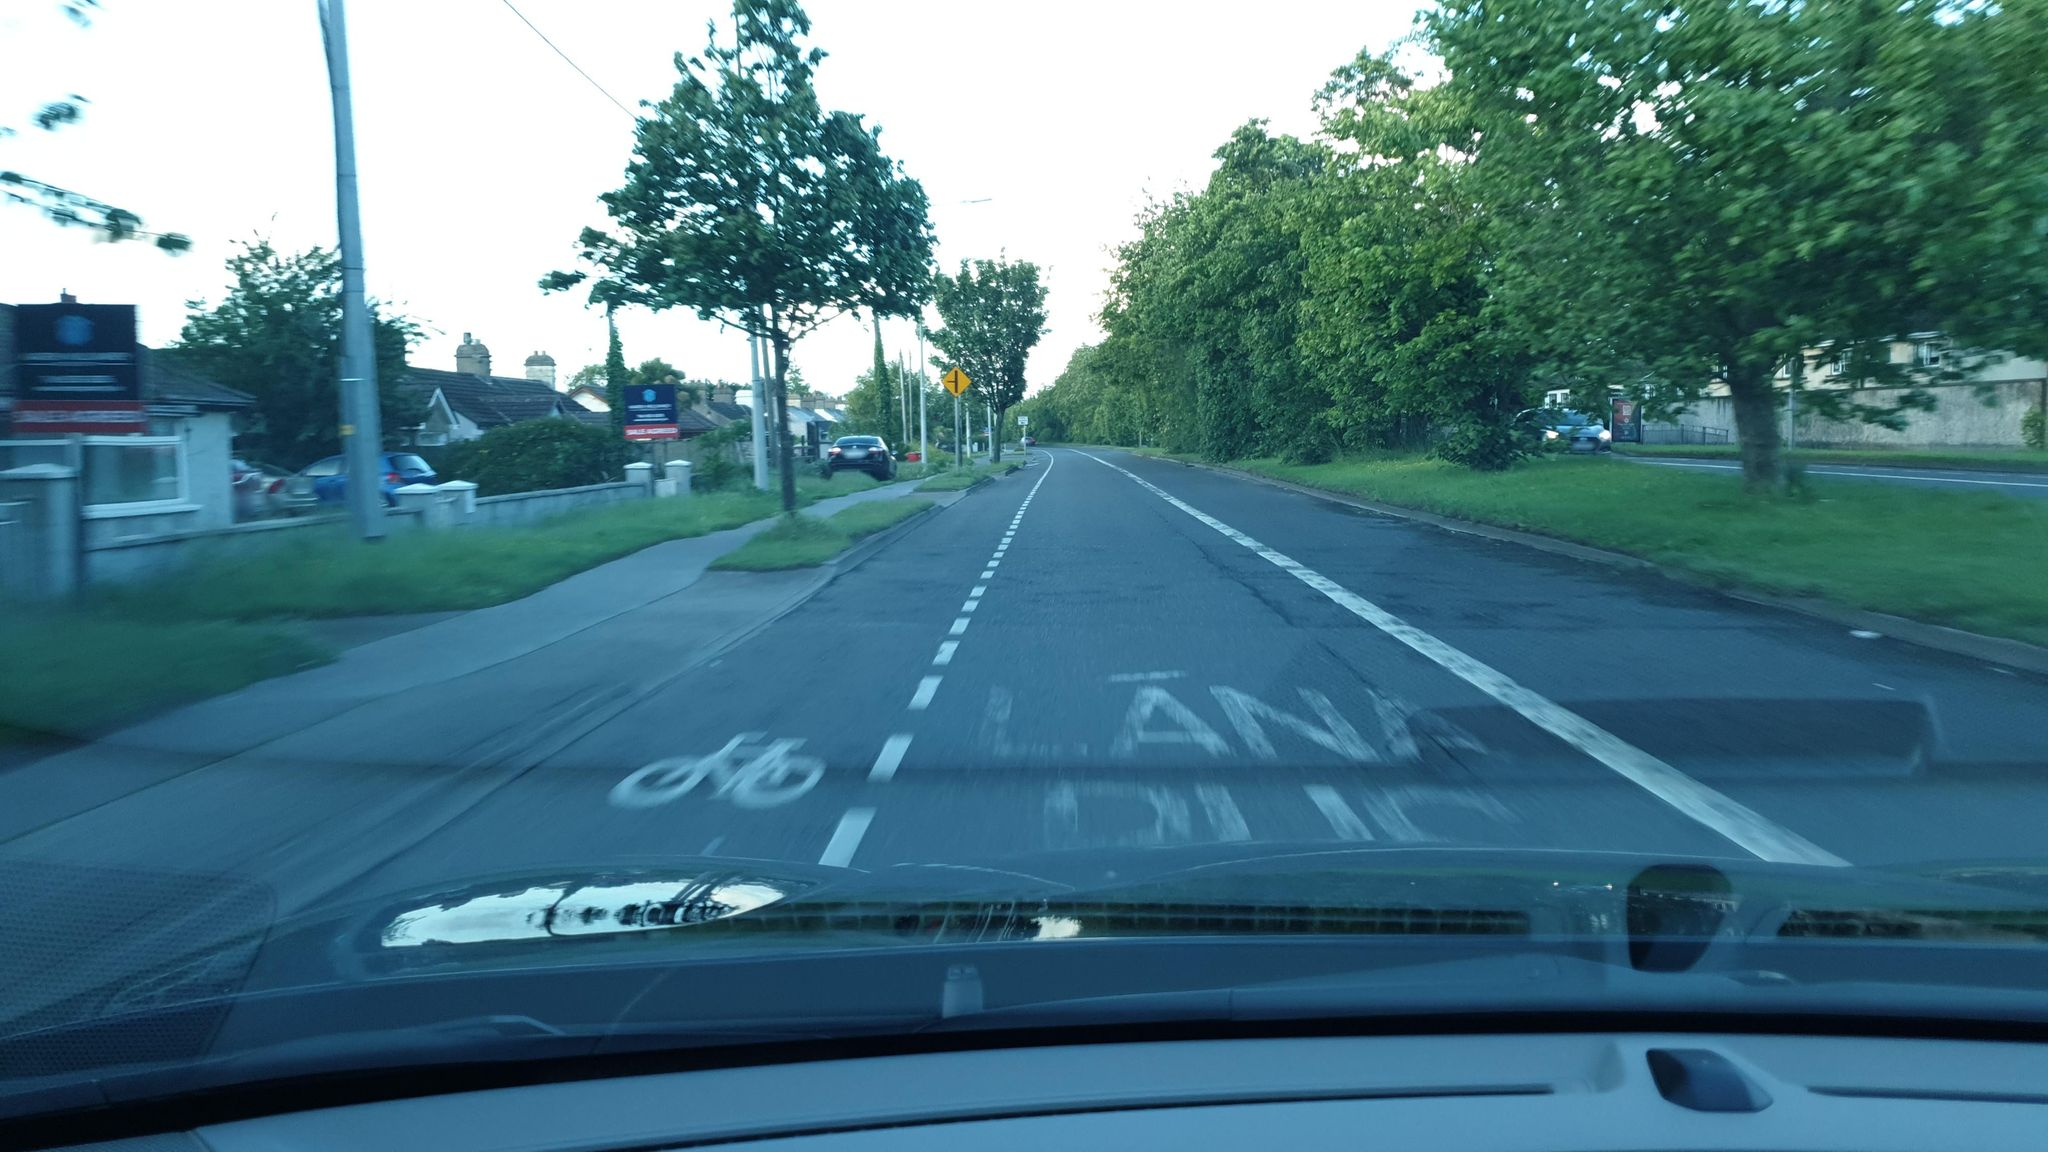property sign: (13, 288, 158, 449), (613, 383, 686, 446)
